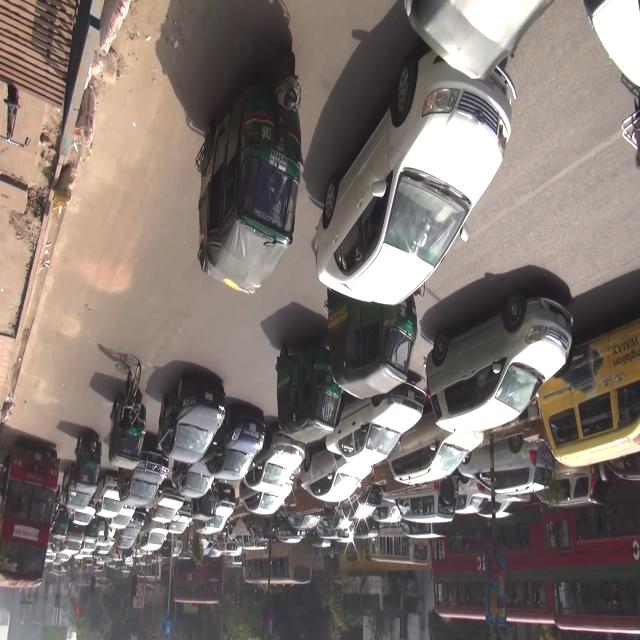black: (157, 375, 227, 465), (125, 451, 165, 510)
blue: (212, 427, 267, 474)
silver: (425, 290, 574, 436), (390, 416, 483, 484), (456, 443, 550, 495), (239, 484, 294, 516)
white: (313, 49, 517, 308), (322, 394, 424, 461), (298, 448, 373, 507), (380, 484, 455, 524), (193, 492, 235, 533), (93, 476, 126, 518), (139, 515, 168, 551), (70, 501, 94, 526), (96, 522, 114, 545)
